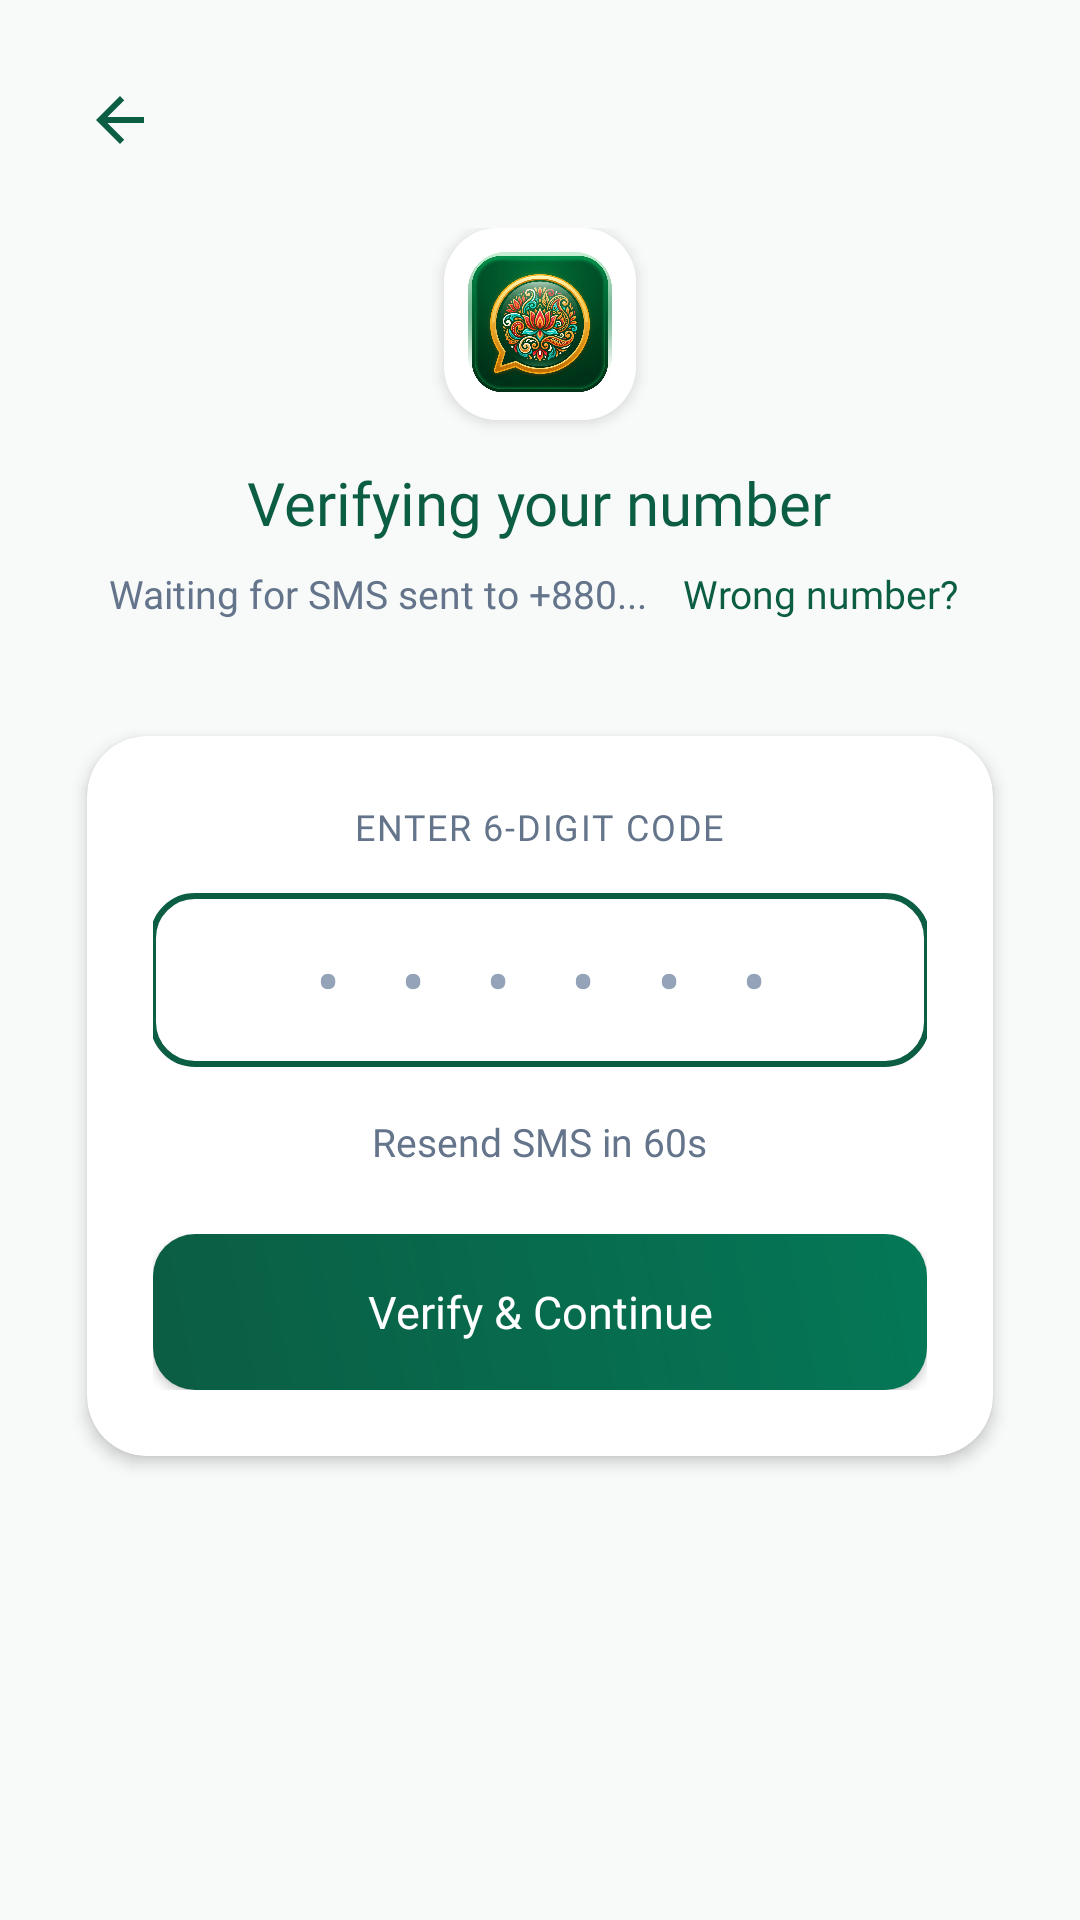

Icons on this 1080w x 1920h Android screen, each with its box as bbox=(x1, y1, x2, y2):
back arrow: bbox=(96, 96, 144, 144)
